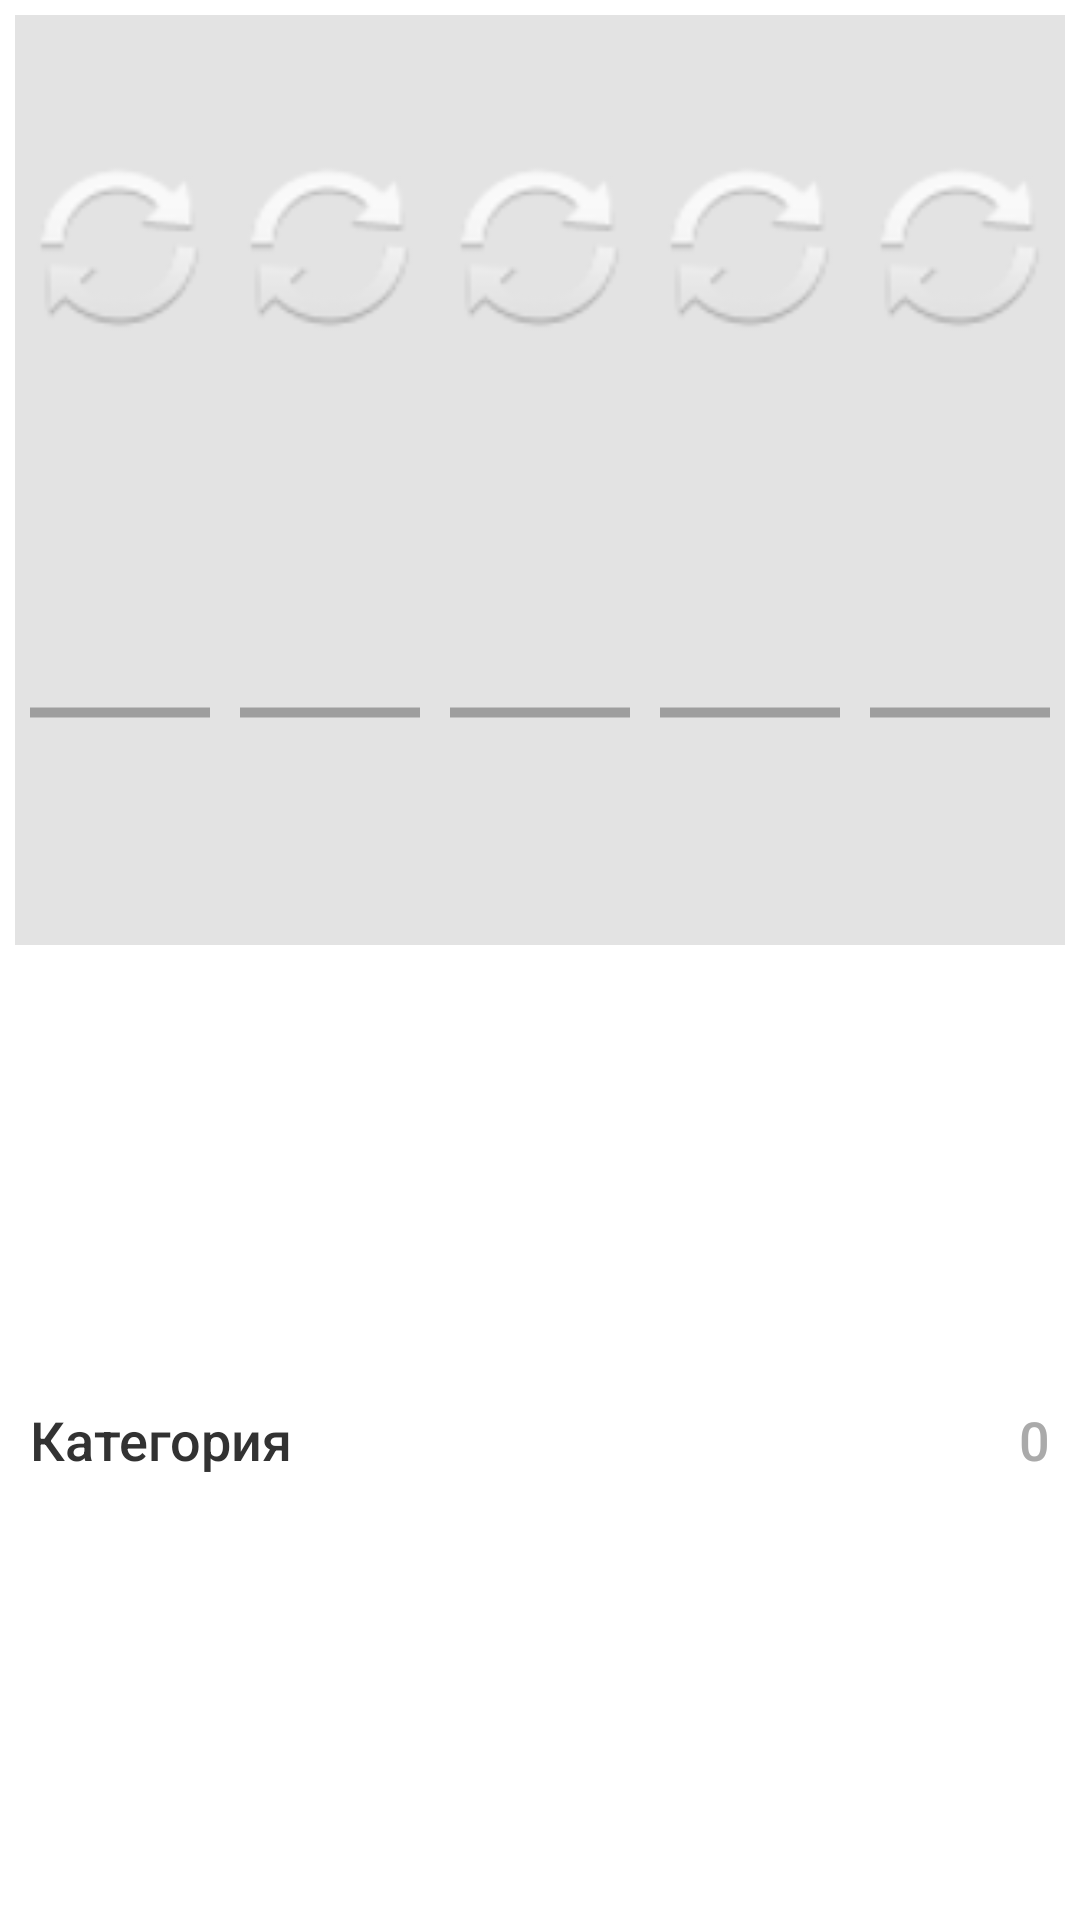

Icons on this 1080w x 1920h Android screen, each with its box as box(x1, y1, x2, y2):
popup sync: box(42, 186, 189, 324), box(252, 186, 399, 324), box(462, 186, 609, 324), box(672, 186, 819, 324), box(882, 186, 1029, 324)
